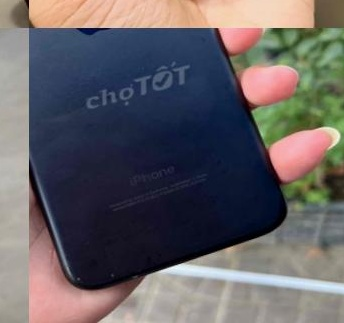scratch: (68, 258, 145, 296), (189, 28, 210, 45)
